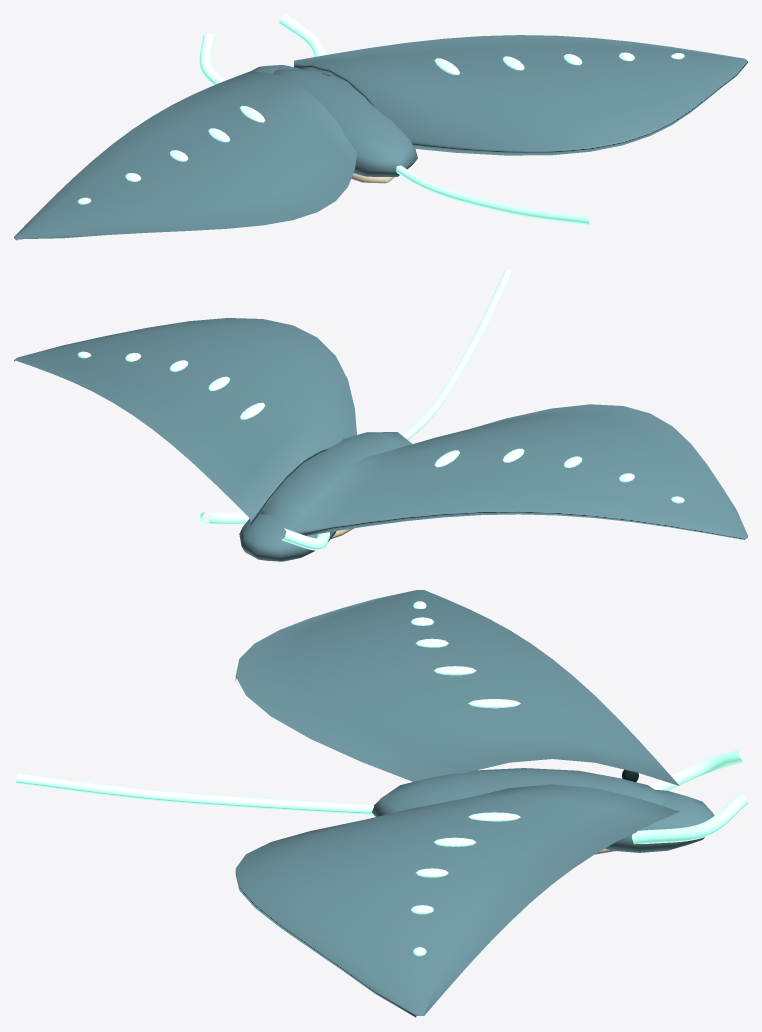
File: cave-ray.glb
3 views of the same model, one above another, from view 1: azimuth 30°, elevation 25°; view 2: azimuth 150°, elevation 25°; view 3: azimuth 270°, elevation 25° (orthographic). The views are drawn at different scales.
Parts seen in each view (by area): view 1: wing-right, wing-left, body, tail, markings; view 2: wing-left, wing-right, body, tail, markings; view 3: wing-right, wing-left, body, tail, markings.
Boxes of the visible parts, box(x1,y1,x2,y2) form: wing-right: box(294, 35, 747, 155); wing-left: box(14, 71, 356, 240); body: box(251, 65, 417, 176); tail: box(396, 165, 592, 225); markings: box(199, 14, 325, 84); wing-left: box(294, 404, 747, 539); wing-right: box(14, 318, 356, 525); body: box(239, 432, 412, 561); tail: box(401, 269, 512, 439); markings: box(199, 511, 329, 550); wing-right: box(235, 784, 679, 1017); wing-left: box(235, 590, 679, 785); body: box(372, 768, 714, 852); tail: box(15, 773, 374, 814); markings: box(631, 749, 747, 844).
Size of the model in its own units: 4.36 by 0.4687 by 3.18.
